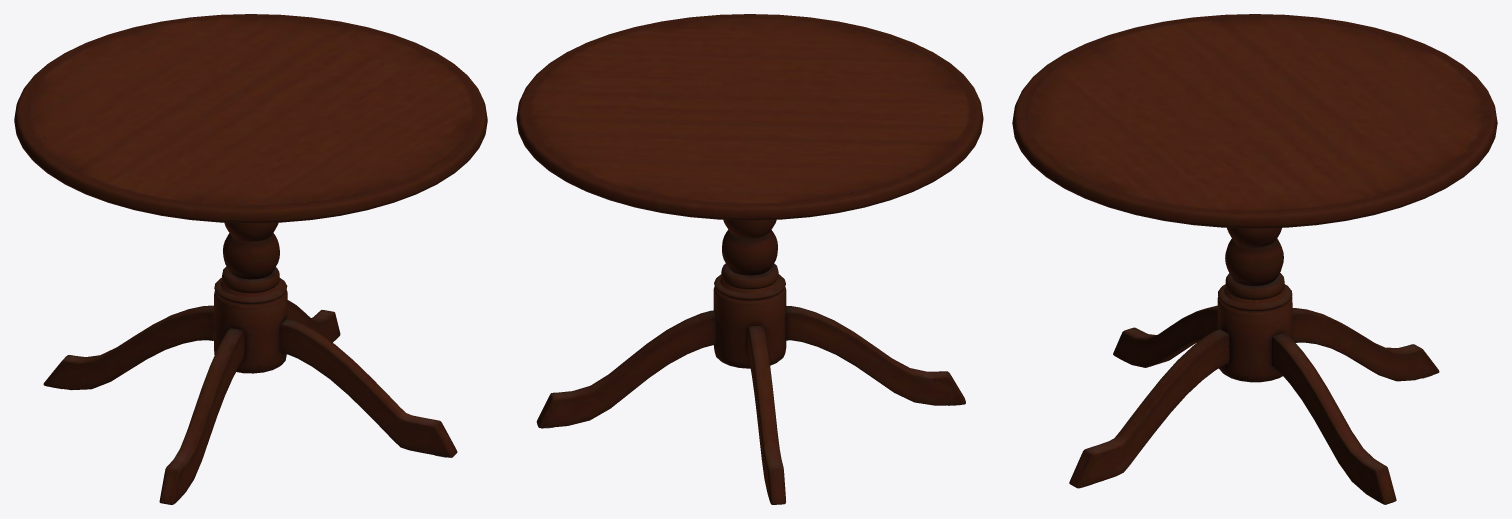
The model's file is round_wooden_table_01.gltf.
3 views of the same model, side by side, from view 1: azimuth 30°, elevation 25°; view 2: azimuth 150°, elevation 25°; view 3: azimuth 270°, elevation 25° (orthographic). The views are drawn at different scales.
Parts seen in each view (by area): view 1: round_wooden_table_01; view 2: round_wooden_table_01; view 3: round_wooden_table_01.
Part boxes in pixels (box(x1,y1,x2,y2)): round_wooden_table_01: box(14, 14, 487, 504); round_wooden_table_01: box(516, 14, 983, 504); round_wooden_table_01: box(1012, 14, 1497, 504).
Bounding box in the file's own units: 1.4 × 1.01 × 1.4.
Materials: 1 (1 with a texture image).
